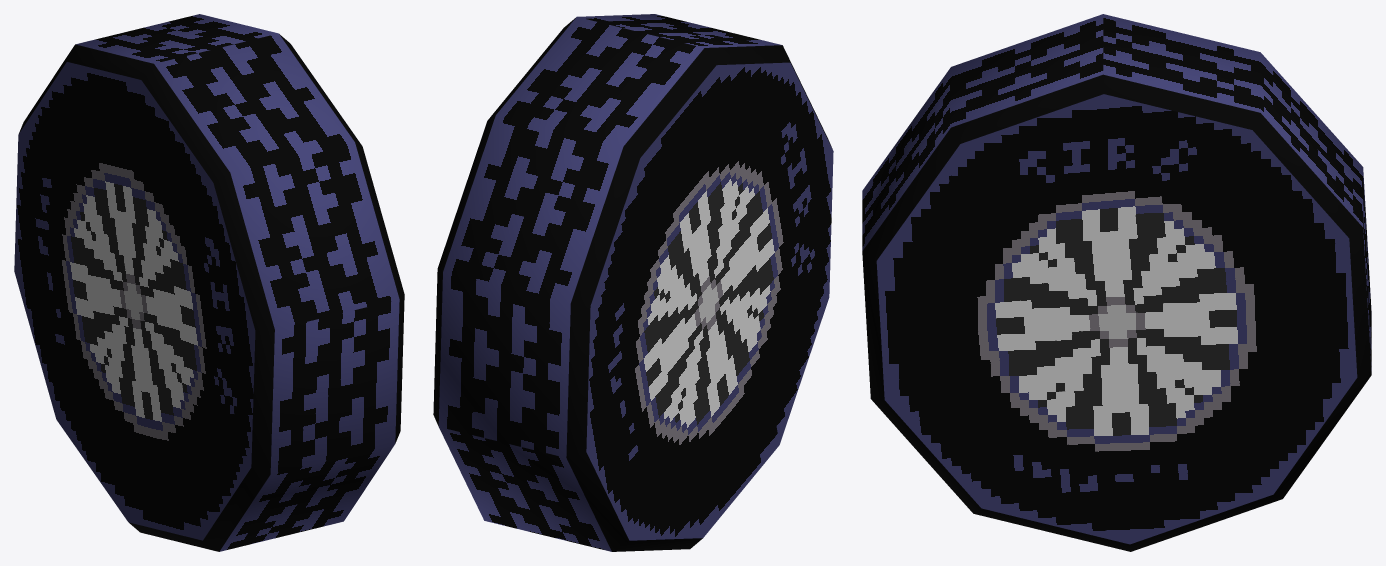
The model's file is sm_tire.fbx.
3 views of the same model, side by side, from view 1: azimuth 30°, elevation 25°; view 2: azimuth 150°, elevation 25°; view 3: azimuth 270°, elevation 25° (orthographic). The views are drawn at different scales.
Parts seen in each view (by area): view 1: Cylinder; view 2: Cylinder; view 3: Cylinder.
Boxes of the visible parts, box(x1,y1,x2,y2) form: Cylinder: box(14, 14, 404, 551); Cylinder: box(433, 14, 833, 551); Cylinder: box(862, 14, 1371, 551).
Bounding box in the file's own units: 13.03 × 39.95 × 38.64.
1 material, 1 textured.
